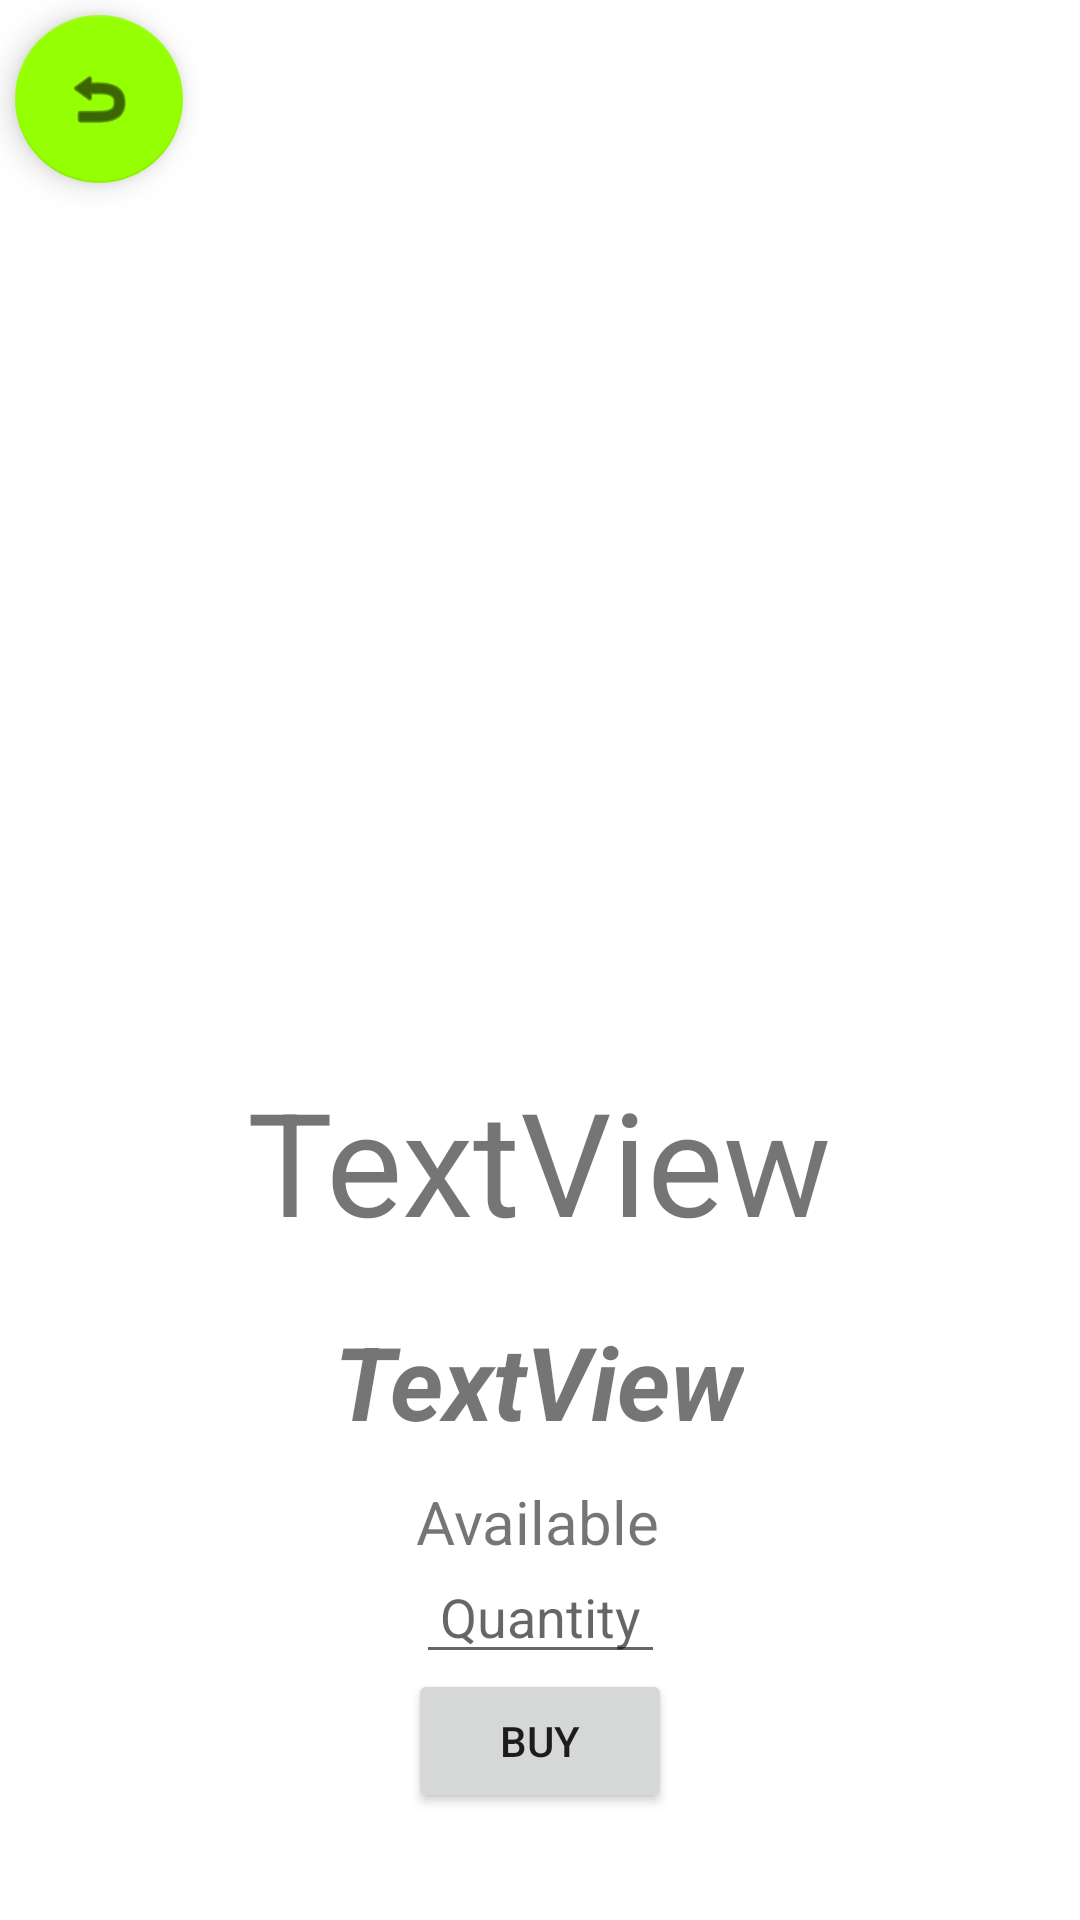

Named icons in this screenshot (1080×1920) and their centers, point (x, y):
revert: point (99, 99)
